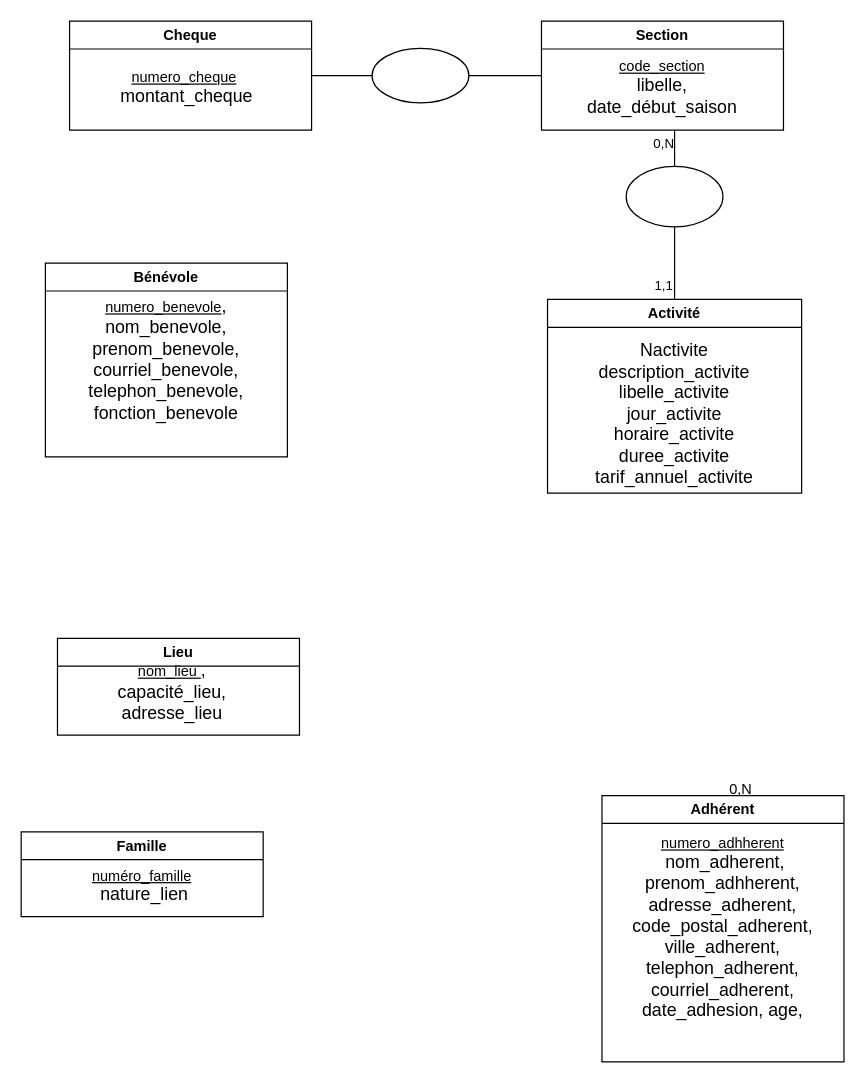
This 865x1083 diagram has some shape labels left out. The shapes that lost their labels are listed below. From the top down, each one's centre as x and y in pixels, then its label:
At (x=420, y=75): "Fourni".
At (x=674, y=196): "soumet".
